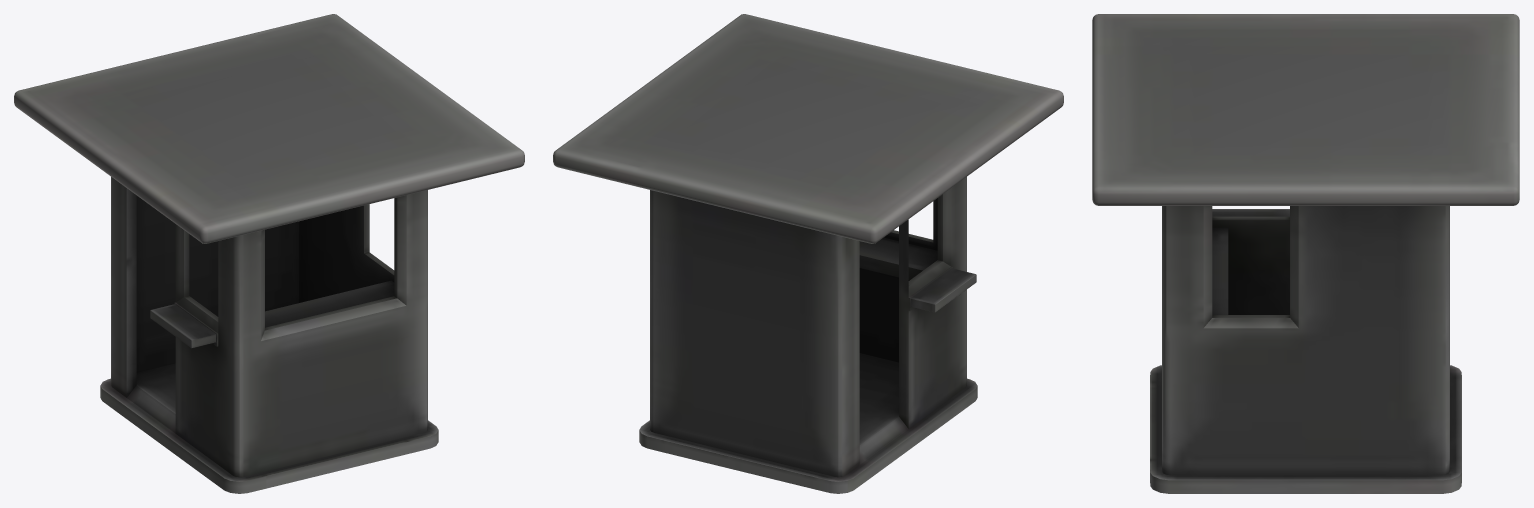
Rendered from bridge-booth.lod1.glb.
The picture shows the model from 3 angles, left to right: view 1: azimuth 30°, elevation 25°; view 2: azimuth 150°, elevation 25°; view 3: azimuth 270°, elevation 25°; orthographic projection. The views are drawn at different scales.
Visible parts, largest first — view 1: Guard House_Guard House_0; view 2: Guard House_Guard House_0; view 3: Guard House_Guard House_0.
Boxes of the visible parts, x1,y1,x2,y2 form: Guard House_Guard House_0: (14, 14, 524, 493); Guard House_Guard House_0: (553, 14, 1063, 493); Guard House_Guard House_0: (1092, 14, 1519, 493).
Size of the model in its own units: 5.69 by 5.03 by 5.8.
1 material, 1 textured.
